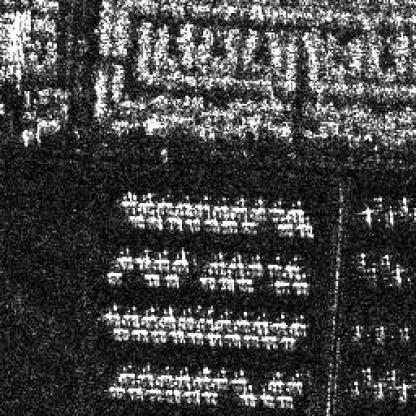airplane: (206, 252, 228, 276), (265, 255, 286, 278), (227, 252, 247, 276), (169, 247, 189, 270), (138, 190, 156, 215), (229, 369, 250, 390), (286, 200, 307, 221), (284, 258, 306, 278), (274, 219, 296, 239), (231, 310, 252, 330), (154, 195, 174, 215), (210, 198, 230, 218), (270, 312, 289, 333), (125, 210, 146, 229), (213, 310, 231, 332), (286, 374, 306, 393), (174, 198, 193, 218), (250, 197, 270, 216), (193, 312, 214, 330), (120, 190, 138, 211), (194, 195, 210, 218), (231, 197, 250, 216), (264, 372, 284, 390), (211, 367, 229, 387), (194, 366, 212, 386), (115, 366, 135, 384), (240, 216, 260, 234), (250, 314, 268, 333), (289, 314, 307, 333), (164, 214, 184, 231), (160, 304, 176, 325), (136, 366, 154, 384), (122, 304, 140, 322), (140, 304, 158, 322), (114, 250, 132, 268), (151, 254, 169, 272), (146, 213, 164, 231), (298, 221, 316, 239), (272, 280, 292, 296), (249, 254, 263, 276), (177, 309, 193, 328), (236, 278, 255, 294), (221, 214, 237, 233), (271, 198, 286, 218), (372, 195, 387, 215), (156, 367, 172, 385), (222, 333, 240, 349), (133, 254, 151, 270), (359, 206, 375, 224), (237, 392, 257, 406), (128, 327, 148, 341), (276, 393, 294, 408), (142, 273, 160, 288), (162, 273, 180, 288), (218, 276, 236, 291), (167, 330, 187, 343), (174, 369, 190, 385), (395, 325, 411, 341), (197, 276, 214, 291), (256, 392, 274, 406), (260, 335, 278, 349), (242, 334, 260, 348), (204, 333, 223, 346), (186, 216, 202, 231), (377, 252, 392, 268), (150, 330, 167, 344), (180, 390, 198, 403), (200, 388, 219, 400), (102, 304, 118, 318), (348, 380, 362, 396), (106, 384, 124, 396), (104, 272, 122, 284), (384, 208, 396, 226), (398, 195, 410, 213), (366, 263, 378, 281), (112, 327, 127, 341), (384, 367, 398, 382), (390, 262, 401, 281), (127, 385, 143, 398), (294, 281, 310, 294), (203, 216, 219, 229), (372, 382, 385, 398), (395, 384, 408, 400), (280, 335, 298, 346), (187, 332, 203, 344), (354, 252, 366, 268), (359, 368, 375, 380), (374, 324, 384, 342), (145, 387, 161, 398), (351, 322, 362, 338), (163, 388, 177, 400)
